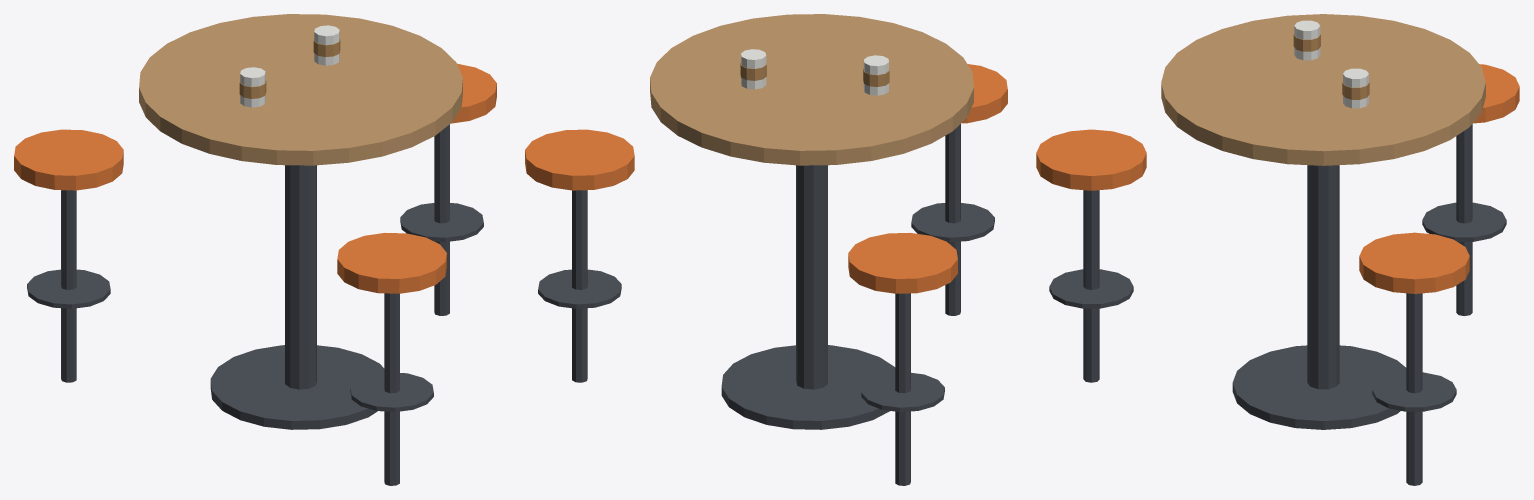
The model's file is high_table.glb.
3 renders of one model, left to right at view 1: azimuth 30°, elevation 25°; view 2: azimuth 150°, elevation 25°; view 3: azimuth 270°, elevation 25°, orthographic.
Visible parts, largest first — view 1: high_table_mesh; view 2: high_table_mesh; view 3: high_table_mesh.
Part boxes in pixels (x1,y1,x2,y2): high_table_mesh: (14,14,496,485); high_table_mesh: (525,14,1007,485); high_table_mesh: (1036,14,1519,485).
Size of the model in its own units: 1.58 by 1.15 by 1.49.
